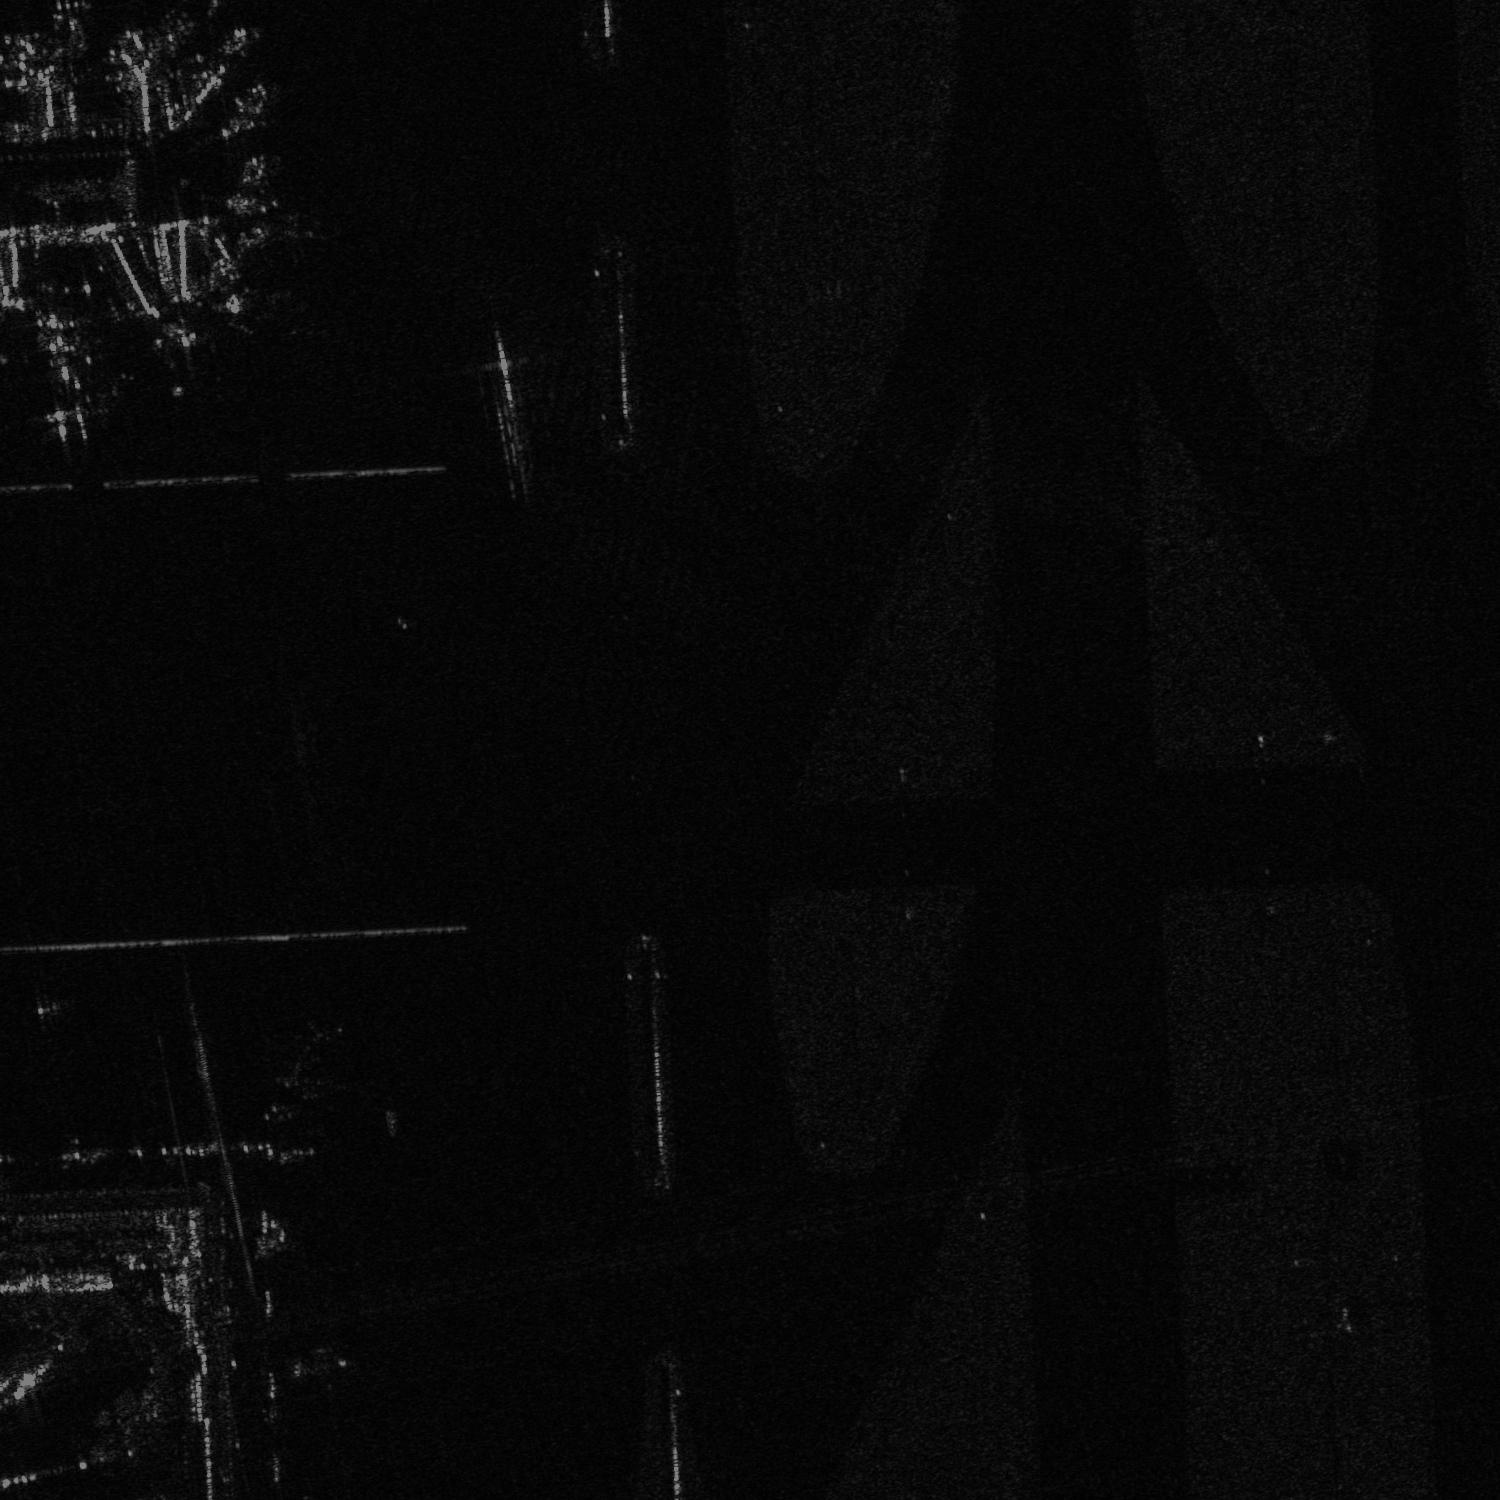A220: (279, 1328, 357, 1391)
Boeing737: (192, 286, 280, 335)
